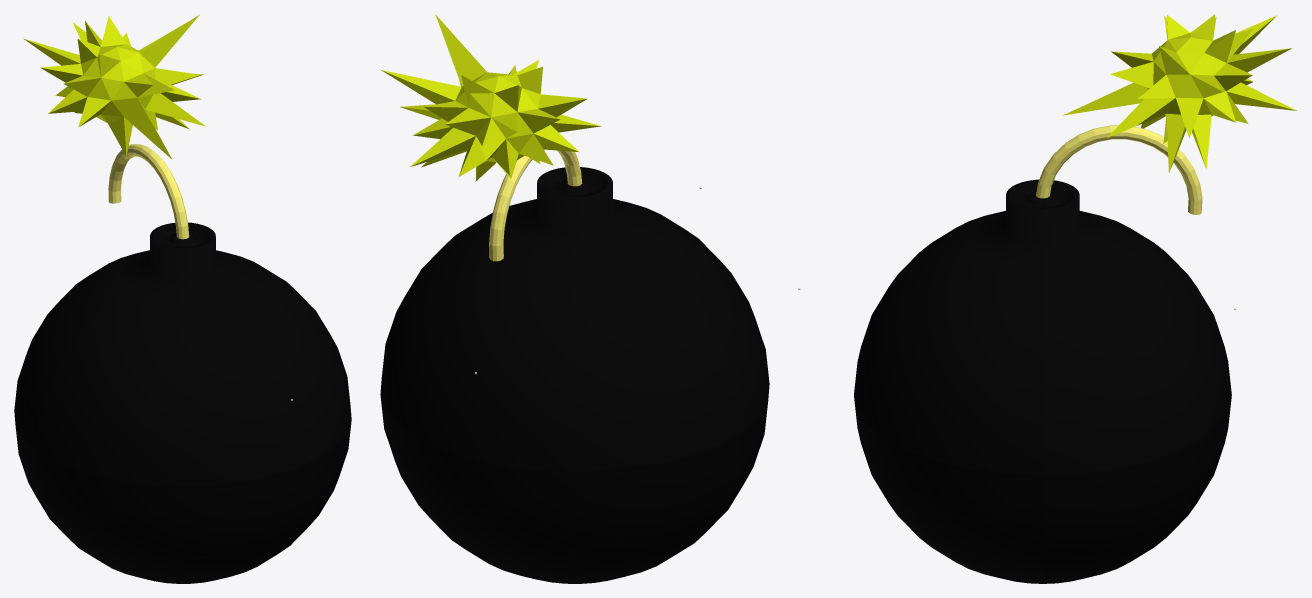
File: bomba.fbx
The picture shows the model from 3 angles, left to right: view 1: azimuth 30°, elevation 25°; view 2: azimuth 150°, elevation 25°; view 3: azimuth 270°, elevation 25°; orthographic projection. The views are drawn at different scales.
Visible parts, largest first — view 1: Sphere.002, Sphere.003, Icosphere, Sphere.001, Torus, Sphere; view 2: Sphere.001, Sphere, Icosphere, Sphere.002, Torus, Sphere.003; view 3: Sphere.002, Sphere.001, Sphere.003, Sphere, Icosphere, Torus.
Boxes of the visible parts, x1=… form: Sphere.002: x1=36, y1=229, x2=351, y2=486; Sphere.003: x1=36, y1=420, x2=351, y2=583; Icosphere: x1=23, y1=14, x2=205, y2=158; Sphere.001: x1=14, y1=222, x2=263, y2=450; Torus: x1=108, y1=144, x2=189, y2=239; Sphere: x1=15, y1=425, x2=78, y2=547; Sphere.001: x1=380, y1=175, x2=743, y2=471; Sphere: x1=380, y1=396, x2=743, y2=583; Icosphere: x1=381, y1=14, x2=601, y2=181; Sphere.002: x1=482, y1=167, x2=769, y2=429; Torus: x1=489, y1=149, x2=582, y2=261; Sphere.003: x1=698, y1=400, x2=768, y2=539; Sphere.002: x1=854, y1=179, x2=1045, y2=474; Sphere.001: x1=1043, y1=180, x2=1231, y2=474; Sphere.003: x1=854, y1=396, x2=1042, y2=583; Sphere: x1=1043, y1=397, x2=1231, y2=583; Icosphere: x1=1063, y1=14, x2=1296, y2=172; Torus: x1=1036, y1=125, x2=1202, y2=214.
Bounding box in the file's own units: 349 × 569 × 461.
